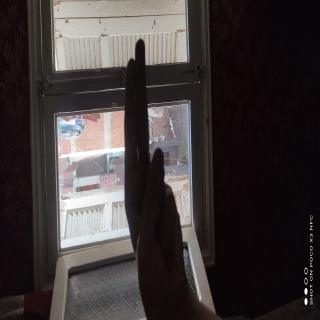AYN: (0, 268, 131, 320)
